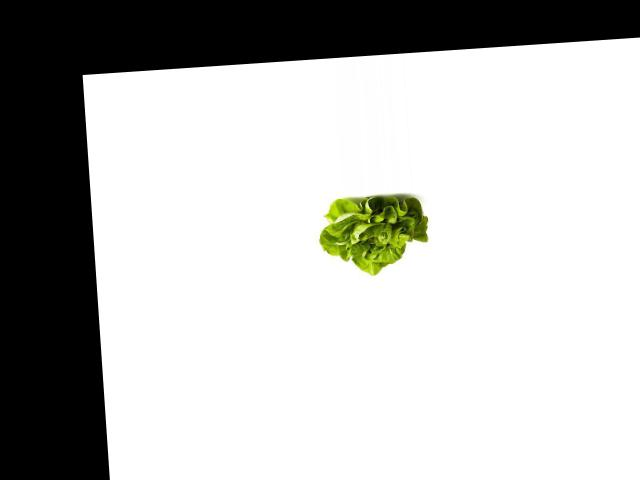lettuce: (313, 191, 433, 278)
